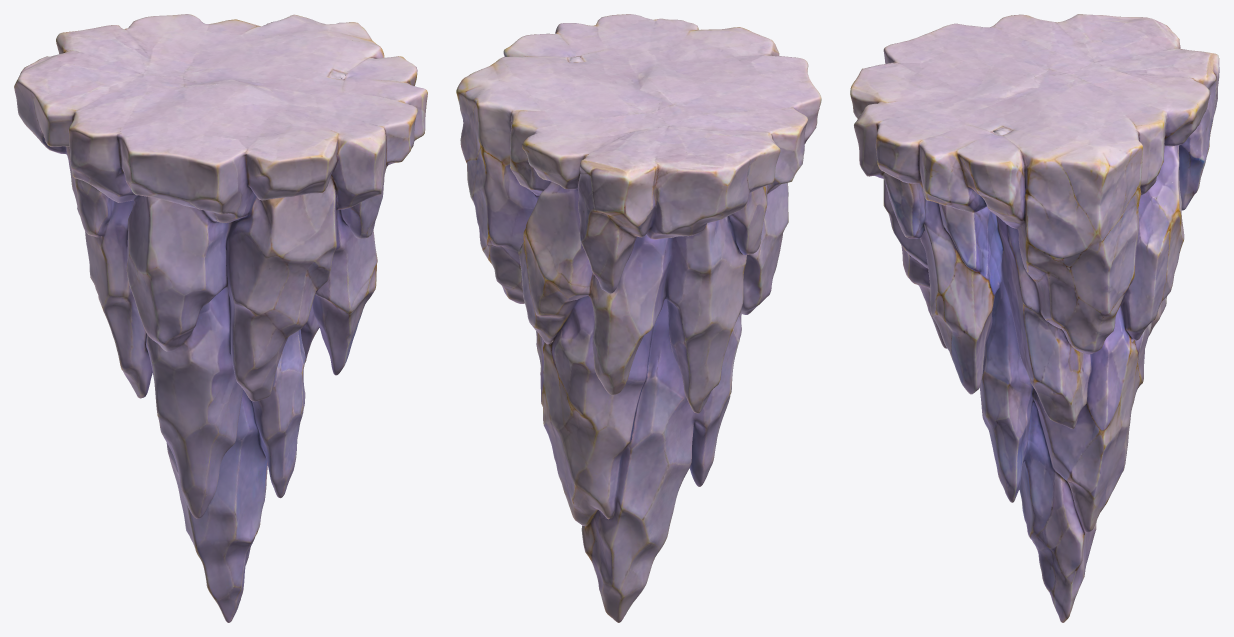
3 renders of one model, left to right at view 1: azimuth 30°, elevation 25°; view 2: azimuth 150°, elevation 25°; view 3: azimuth 270°, elevation 25°, orthographic. The views are drawn at different scales.
Visible parts, largest first — view 1: tripo_node_2a338573-2e8e-463e-87eb-84c38f180d4a; view 2: tripo_node_2a338573-2e8e-463e-87eb-84c38f180d4a; view 3: tripo_node_2a338573-2e8e-463e-87eb-84c38f180d4a.
Boxes of the visible parts, x1,y1,x2,y2 form: tripo_node_2a338573-2e8e-463e-87eb-84c38f180d4a: (14,14,427,622); tripo_node_2a338573-2e8e-463e-87eb-84c38f180d4a: (456,14,821,622); tripo_node_2a338573-2e8e-463e-87eb-84c38f180d4a: (850,14,1219,622).
Bounding box in the file's own units: 0.6013 × 0.9797 × 0.6149.
Materials: 1 (1 with a texture image).
